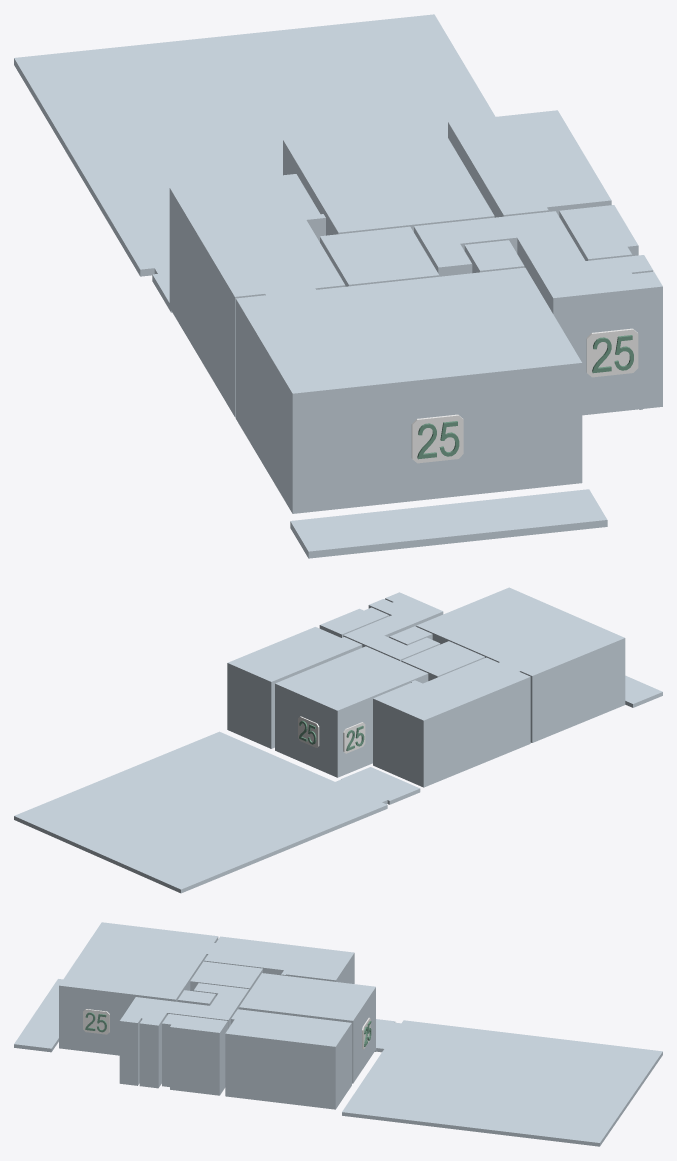
3 views of the same model, one above another, from view 1: azimuth 30°, elevation 25°; view 2: azimuth 150°, elevation 25°; view 3: azimuth 270°, elevation 25° (orthographic). The views are drawn at different scales.
Visible parts, largest first — view 1: g_1, g_9, g_0, g_4, g_6, g_8, g_7, g_2, g_5, g_18, g_21, g_3; view 2: g_9, g_1, g_0, g_6, g_7, g_4, g_2, g_5, g_8, g_3; view 3: g_9, g_1, g_7, g_6, g_4, g_5, g_0, g_8, g_2, g_15, g_3.
Boxes of the visible parts, x1,y1,x2,y2 form: g_1: (235,267,582,513); g_9: (14,14,495,312); g_0: (169,174,345,417); g_4: (414,211,662,415); g_6: (283,123,494,235); g_8: (290,489,607,558); g_7: (448,110,611,217); g_2: (320,226,439,286); g_5: (559,205,638,260); g_18: (586,328,638,377); g_21: (411,414,463,463); g_3: (464,240,524,273); g_9: (14,731,420,893); g_1: (416,587,625,742); g_0: (373,657,530,787); g_6: (275,646,428,777); g_7: (227,627,362,748); g_4: (343,592,443,661); g_2: (401,641,484,680); g_5: (319,607,389,637); g_8: (625,675,662,707); g_3: (389,626,432,645); g_9: (342,1019,662,1146); g_1: (59,922,218,1055); g_7: (225,1009,351,1109); g_6: (239,973,375,1083); g_4: (119,983,249,1088); g_5: (162,1014,227,1095); g_0: (204,936,354,983); g_8: (14,979,62,1052); g_2: (190,961,262,991); g_15: (83,1009,109,1034); g_3: (177,990,215,1005).
Bounding box in the file's own units: 14.45 × 2.74 × 24.12.
